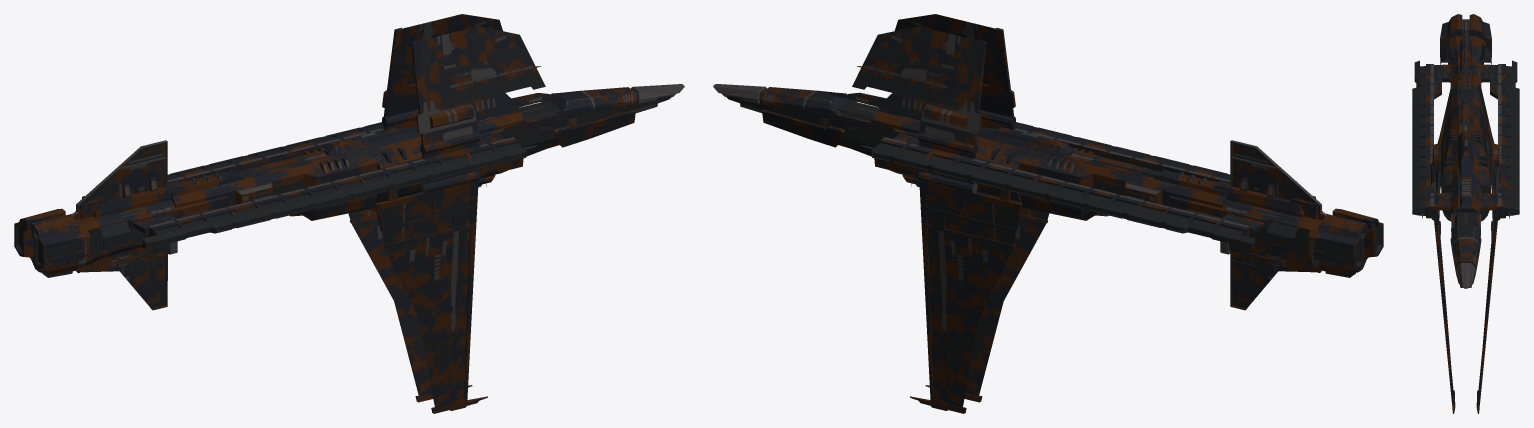
The model's file is maelstrom.glb.
3 renders of one model, left to right at view 1: azimuth 30°, elevation 25°; view 2: azimuth 150°, elevation 25°; view 3: azimuth 270°, elevation 25°, orthographic. The views are drawn at different scales.
Parts seen in each view (by area): view 1: Maelstrom; view 2: Maelstrom; view 3: Maelstrom.
Part boxes in pixels (box(x1,y1,x2,y2)): Maelstrom: box(14, 14, 684, 413); Maelstrom: box(713, 14, 1383, 413); Maelstrom: box(1412, 14, 1519, 413).
Size of the model in its own units: 1482 by 819 by 263.
Materials: 1 (1 with a texture image).
